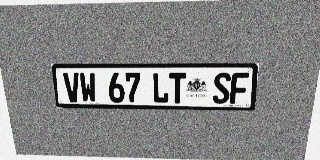6: (107, 73, 125, 103)
7: (124, 73, 141, 103)
F: (230, 72, 249, 104)
L: (152, 72, 169, 103)
S: (212, 72, 231, 104)
T: (169, 72, 186, 103)
V: (63, 73, 81, 102)
W: (79, 73, 97, 102)
